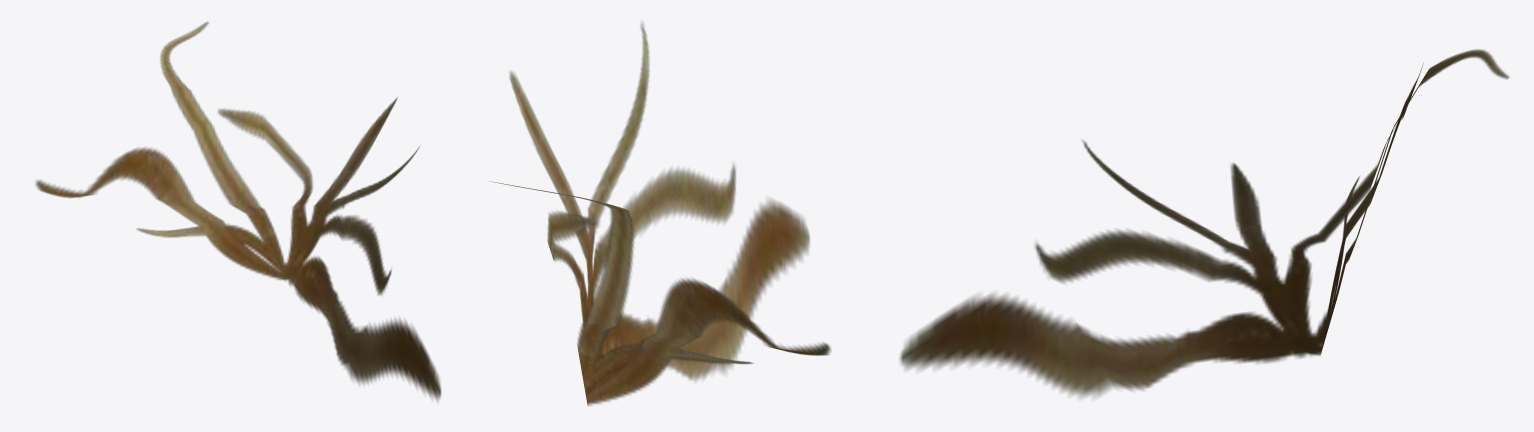
The model's file is grass_dead_a.glb.
3 renders of one model, left to right at view 1: azimuth 30°, elevation 25°; view 2: azimuth 150°, elevation 25°; view 3: azimuth 270°, elevation 25°, orthographic. The views are drawn at different scales.
Parts seen in each view (by area): view 1: grass_bermuda_01_dead_a.001; view 2: grass_bermuda_01_dead_a.001; view 3: grass_bermuda_01_dead_a.001.
Part boxes in pixels (bbox=[...]): grass_bermuda_01_dead_a.001: bbox=[35, 21, 441, 401]; grass_bermuda_01_dead_a.001: bbox=[490, 22, 831, 405]; grass_bermuda_01_dead_a.001: bbox=[900, 49, 1509, 398].
Size of the model in its own units: 1.57 by 1.22 by 1.95.
Materials: 1 (1 with a texture image).
